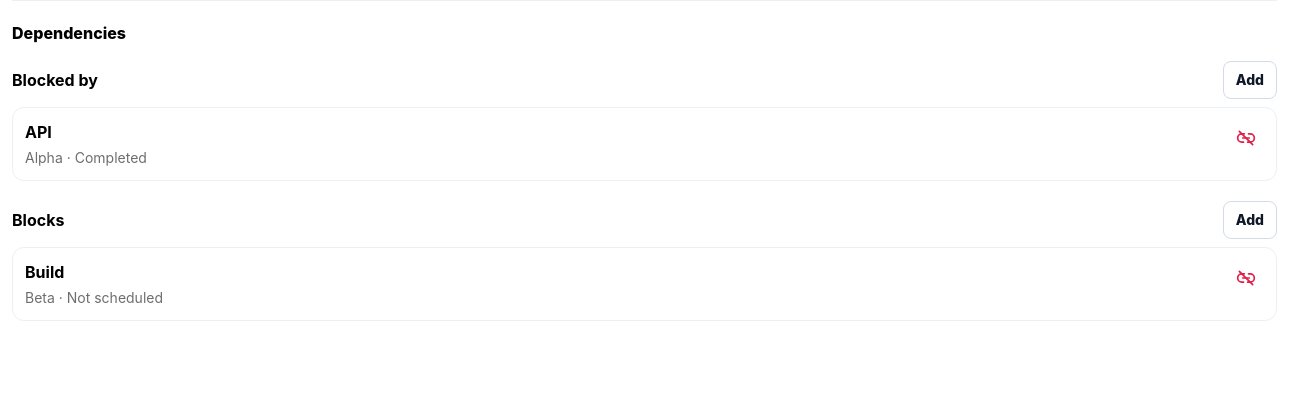
TaskDependencies › removes a dependency directly from the unlink action
The width and height of the screenshot is (1292, 414).
Expected: the list item "API" is shown, [25,122,52,142]
Click the button named "Remove dependency for API": click(1246, 138) [1228,120,1264,156]
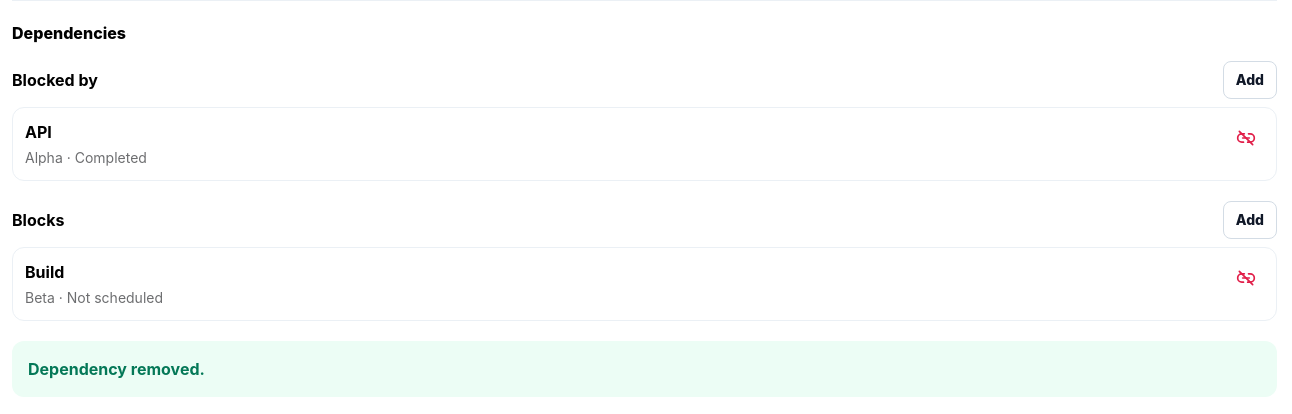
Now the text "Dependency removed." is shown, box [12,341,1277,397]
